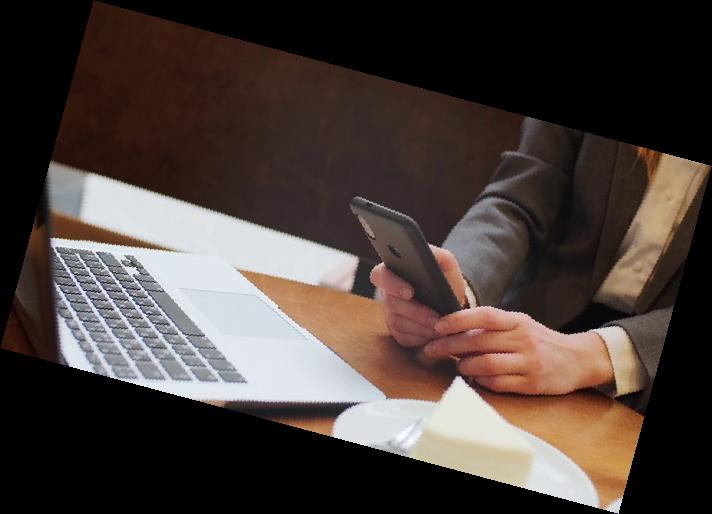phone: (343, 188, 467, 337)
